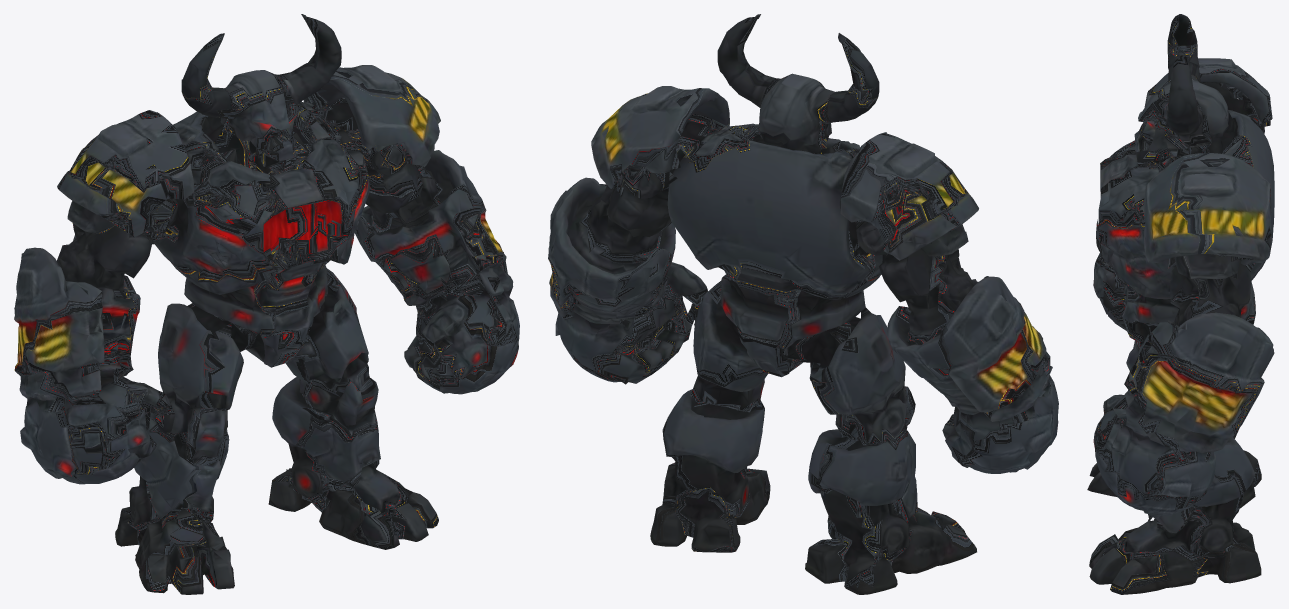
File: statue-2.glb
3 renders of one model, left to right at view 1: azimuth 30°, elevation 25°; view 2: azimuth 150°, elevation 25°; view 3: azimuth 270°, elevation 25°, orthographic. The views are drawn at different scales.
Parts seen in each view (by area): view 1: body; view 2: body; view 3: body.
Boxes of the visible parts, x1,y1,x2,y2 form: body: (14, 14, 519, 594); body: (548, 14, 1058, 594); body: (1087, 14, 1274, 594).
Bounding box in the file's own units: 0.9896 × 0.9991 × 0.3431.
Materials: 1 (1 with a texture image).
